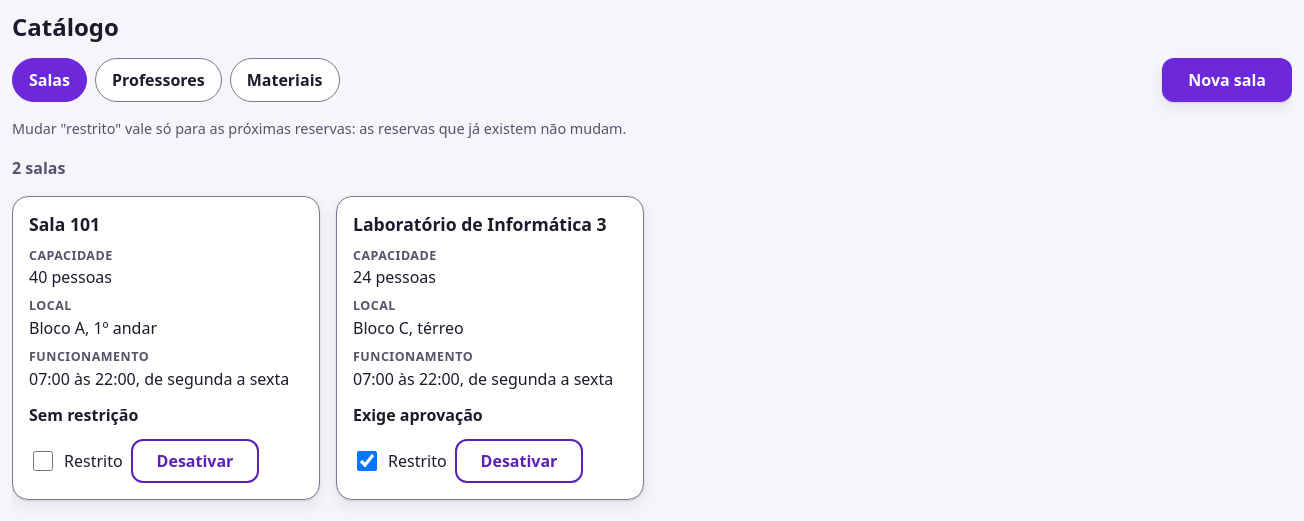
Test: PaginaDoCatalogo: restrito › enquanto envia, a caixa fica desabilitada e um clique duplo envia um único pedido
Double-click the checkbox named "Restrito Sala 101": (43, 461) [33,451,53,471]
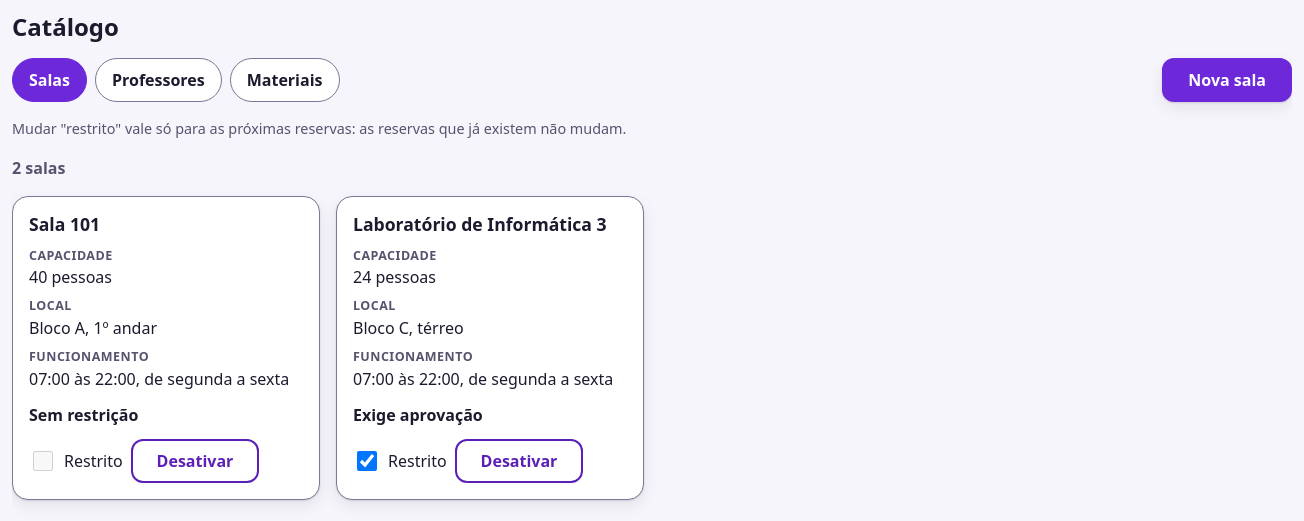
Expected: the checkbox named "Restrito Sala 101" is disabled, [33,451,53,471]
